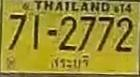1: (32, 14, 38, 49)
2: (59, 15, 76, 50), (115, 17, 132, 51)
7: (8, 13, 26, 49), (78, 15, 95, 50), (97, 16, 114, 50)
SRI: (47, 54, 90, 72)
